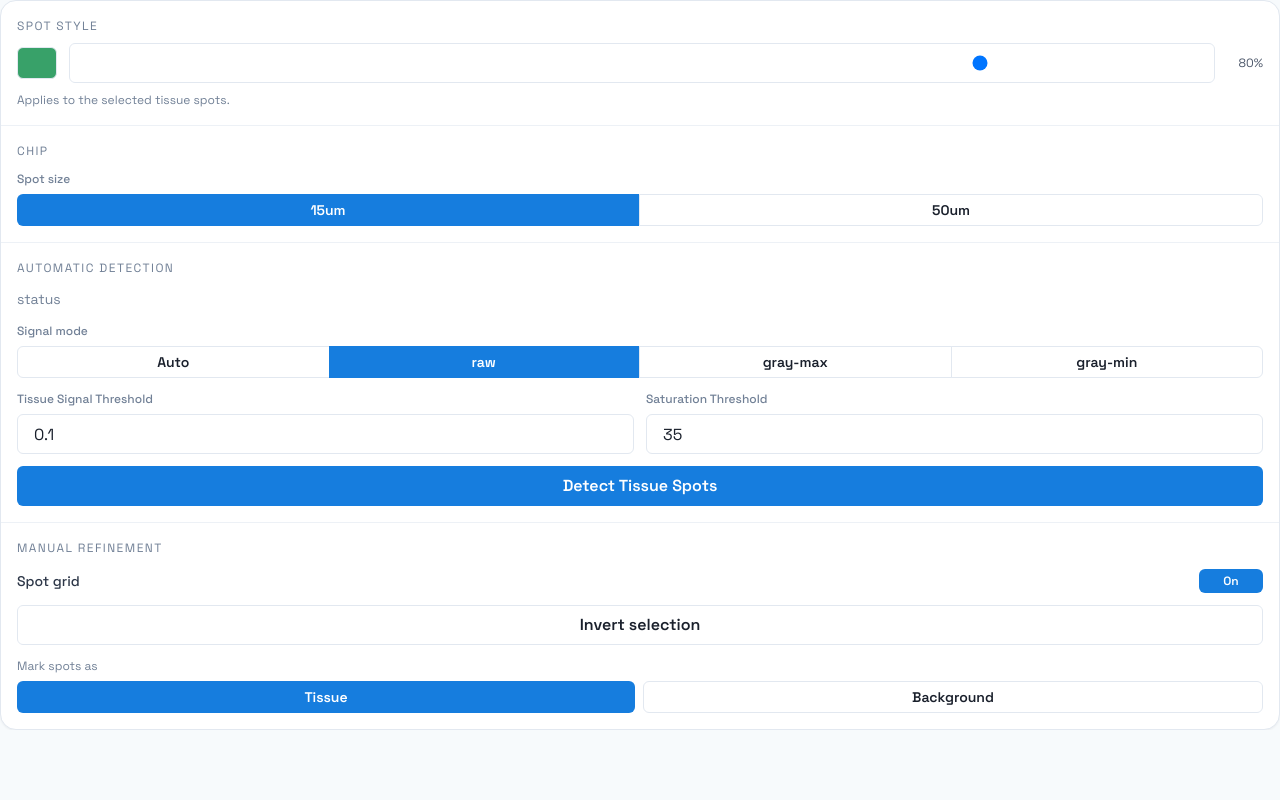
Scenario: TissueControlPanel › normalizes out-of-range edits back to the last valid visible value
Replace the text in the number field with test id "tissue-activation-threshold-input" with "1.5" at (326, 434), box [17,414,634,454]
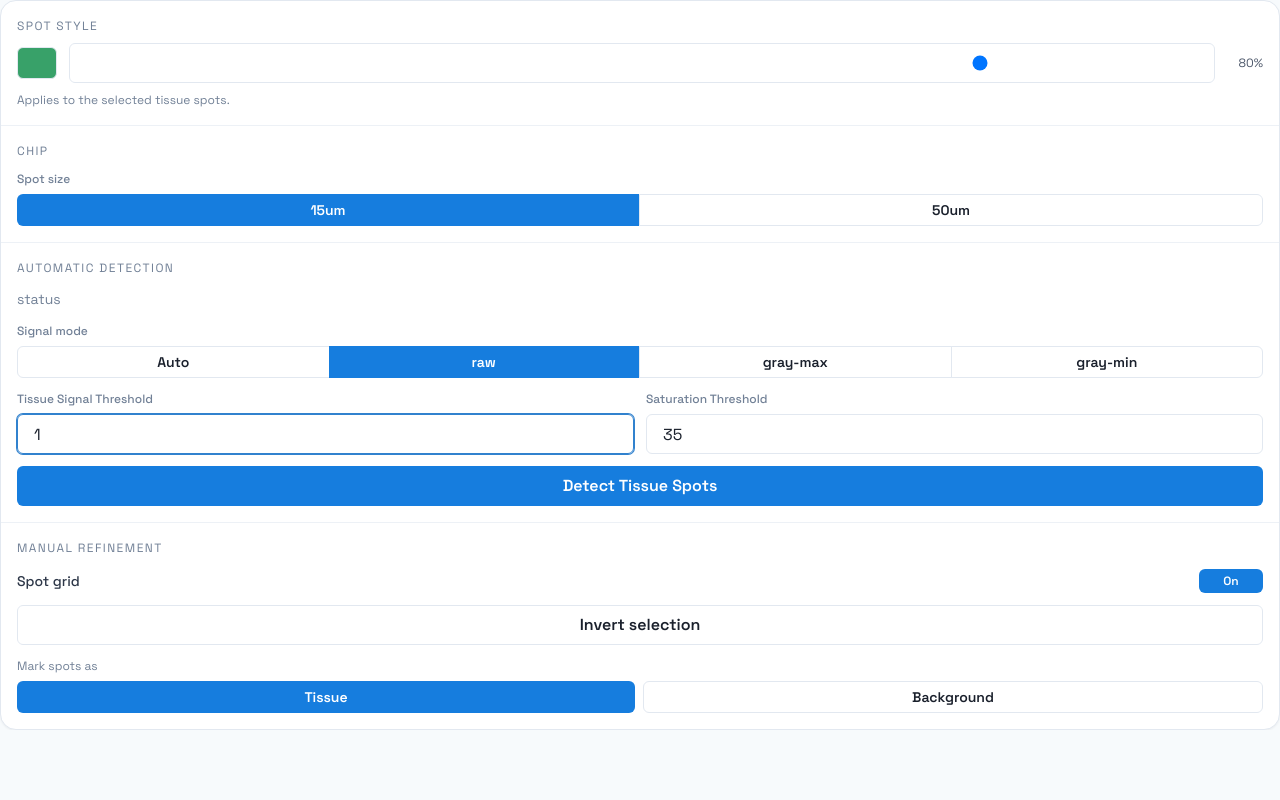
expect the number field with test id "tissue-activation-threshold-input" holds "1": met, box [17,414,634,454]
Replace the text in the number field with test id "tissue-block-threshold-input" with "300" at (954, 434), box [646,414,1263,454]
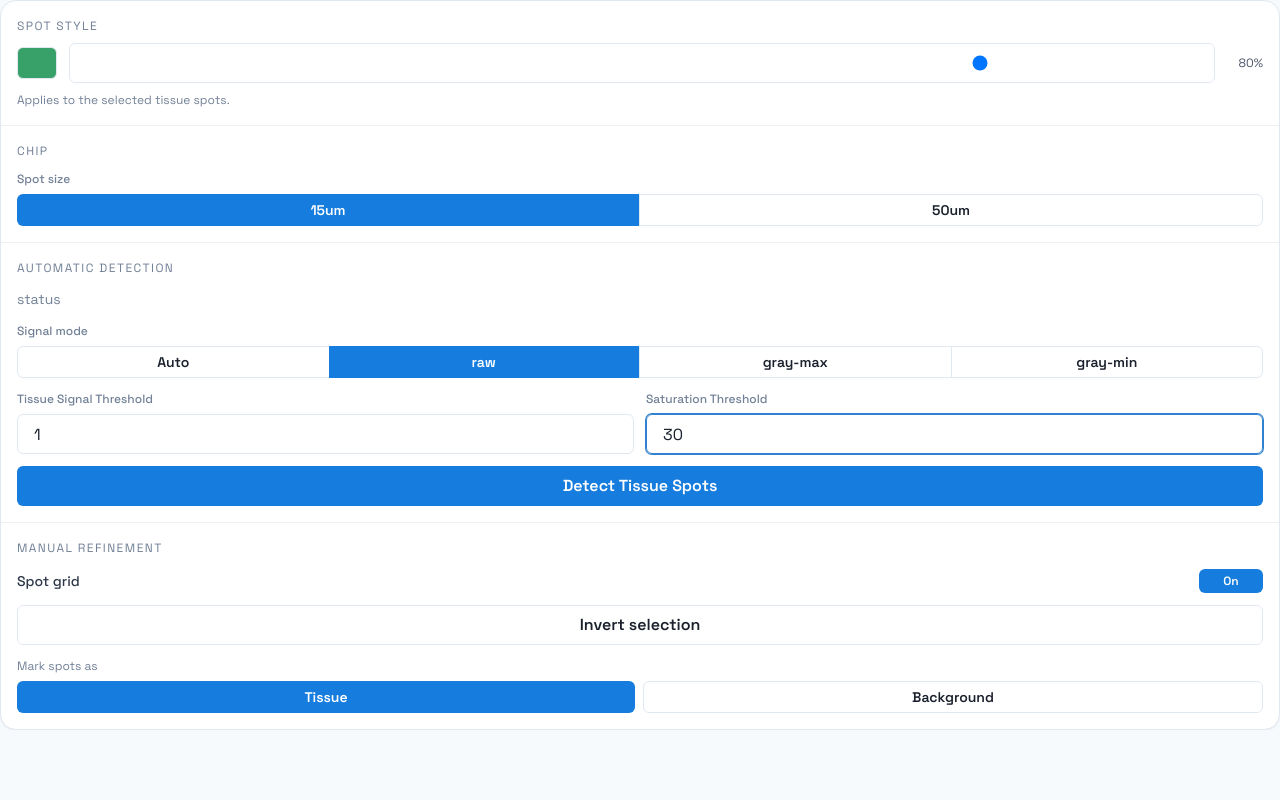
expect the number field with test id "tissue-block-threshold-input" holds "30": met, box [646,414,1263,454]
